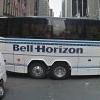Bus: (2, 11, 99, 81)
